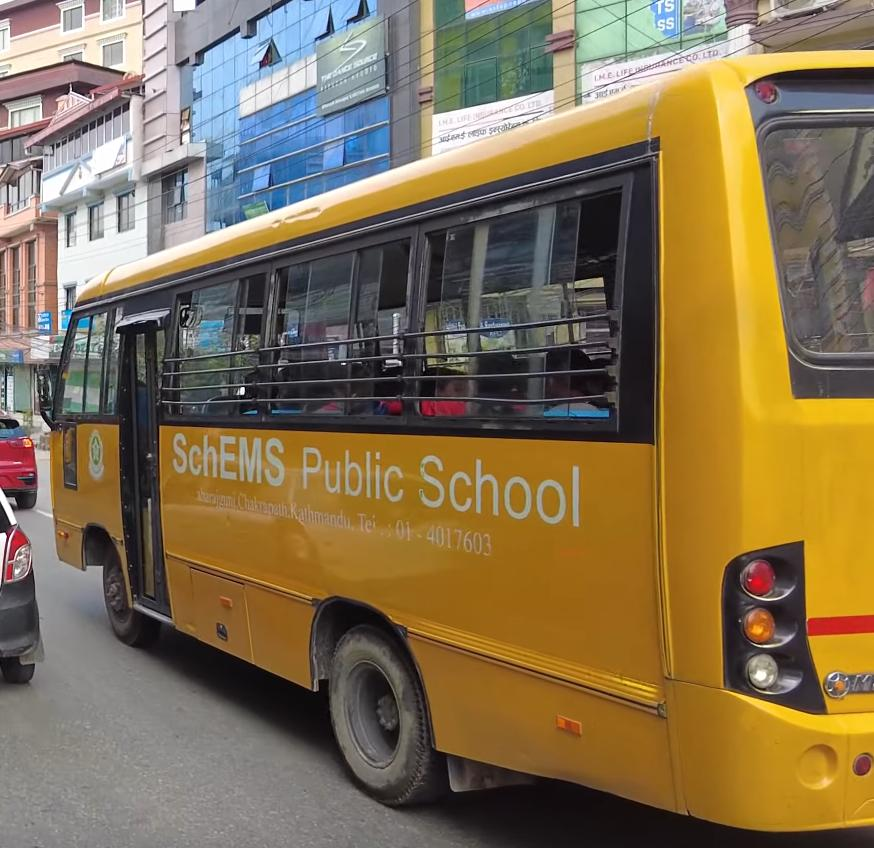school_bus: (31, 34, 874, 848)
